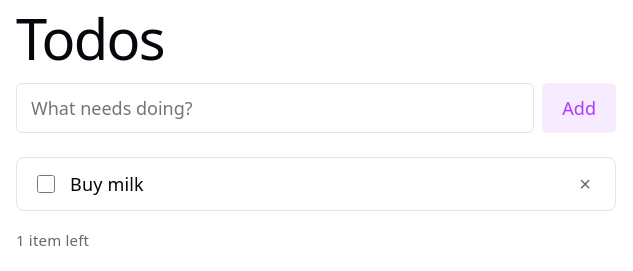
Scenario: inline editing › cancels editing on Escape without saving
Click the text "Buy milk" at point(107, 184), box top-left (70, 172), bottom-right (144, 196)
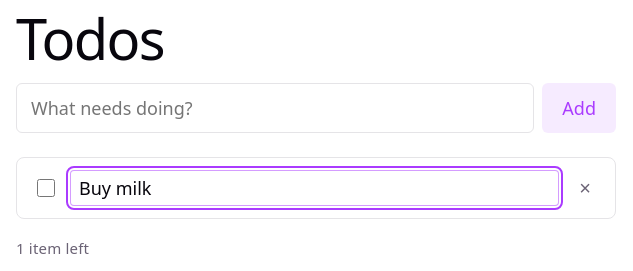
Type " extra" into the field showing "Buy milk" at point(315, 188), box top-left (70, 170), bottom-right (559, 206)
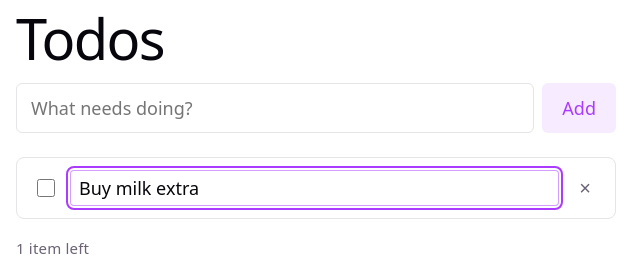
Press Escape
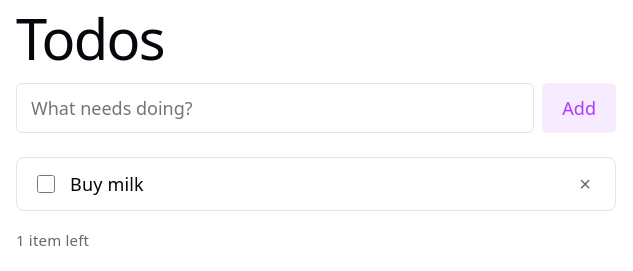
Result: the text "Buy milk" is shown at top-left (70, 172), bottom-right (144, 196)
